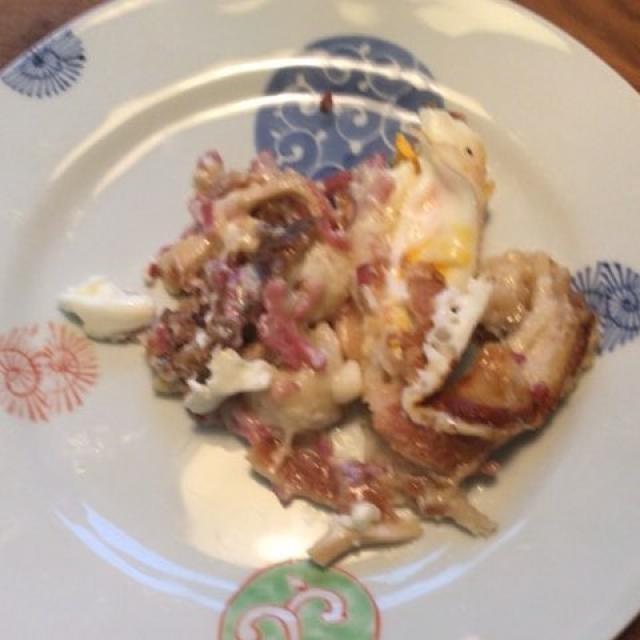cheese: (207, 163, 612, 547)
